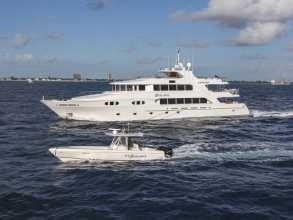otherboat: (48, 122, 169, 162)
yacht: (35, 50, 253, 124)
